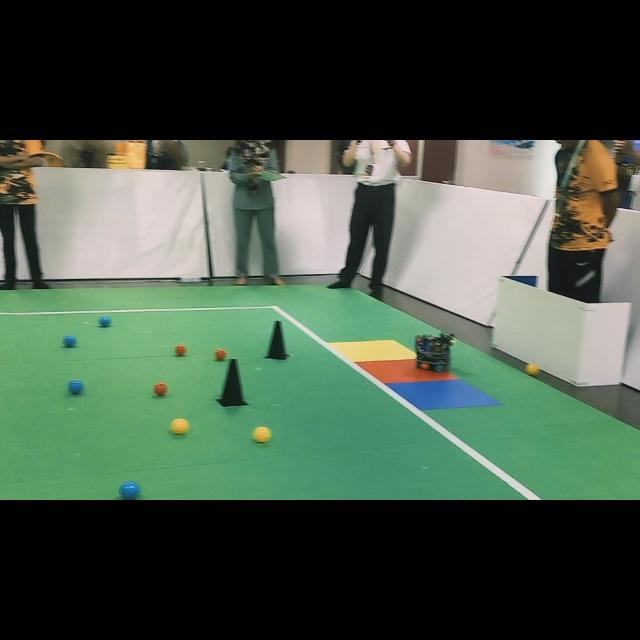ball: (120, 481, 140, 500), (252, 426, 271, 442), (171, 419, 189, 434), (68, 380, 84, 395), (154, 381, 168, 396), (62, 335, 76, 348), (525, 364, 540, 376), (215, 349, 228, 361), (175, 344, 188, 356), (99, 316, 111, 328)
goal: (389, 380, 501, 410), (358, 359, 458, 384), (329, 340, 416, 362)
